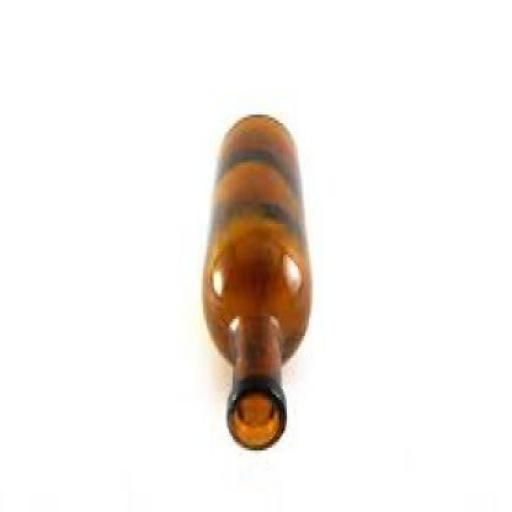glass: (198, 112, 310, 450)
